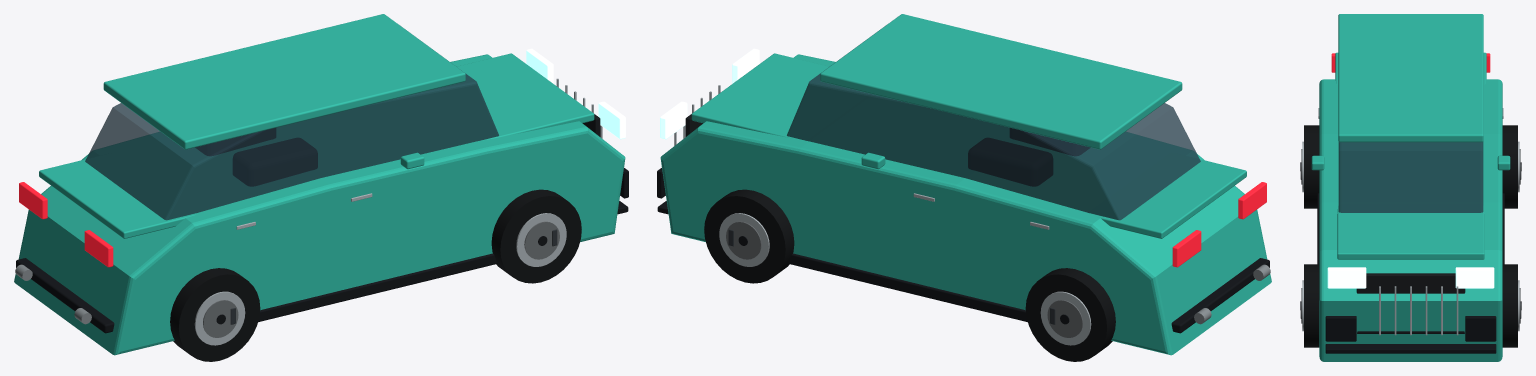
The model's file is ford_e_series_cutaway.glb.
3 views of the same model, side by side, from view 1: azimuth 30°, elevation 25°; view 2: azimuth 150°, elevation 25°; view 3: azimuth 270°, elevation 25° (orthographic). The views are drawn at different scales.
Visible parts, largest first — view 1: sculpted_body, glasshouse, roof, hood_center, rear_deck, rear_right_wheel_tire, front_right_wheel_tire, side_skirt_1, seat_1, rear_diffuser, rear_right_wheel_rim, front_right_wheel_rim (+7 smaller); view 2: sculpted_body, glasshouse, roof, hood_center, rear_deck, rear_left_wheel_tire, front_left_wheel_tire, side_skirt_-1, seat_-1, rear_diffuser, rear_left_wheel_rim, front_left_wheel_rim (+7 smaller); view 3: sculpted_body, roof, glasshouse, hood_center, front_grille, front_splitter, front_left_wheel_tire, front_right_wheel_tire, rear_left_wheel_tire, rear_right_wheel_tire, headlight_right, headlight_left (+7 smaller).
Part boxes in pixels (x1,y1,x2,y2): sculpted_body: (14, 54, 625, 355); glasshouse: (85, 25, 498, 220); roof: (103, 14, 465, 149); hood_center: (417, 53, 594, 140); rear_deck: (39, 153, 198, 238); rear_right_wheel_tire: (170, 268, 260, 361); front_right_wheel_tire: (491, 189, 581, 283); side_skirt_1: (258, 253, 497, 322); seat_1: (233, 138, 317, 185); rear_diffuser: (16, 258, 114, 333); rear_right_wheel_rim: (194, 291, 245, 345); front_right_wheel_rim: (516, 213, 566, 266); sculpted_body: (660, 54, 1271, 355); glasshouse: (787, 25, 1200, 220); roof: (820, 14, 1182, 149); hood_center: (691, 53, 868, 140); rear_deck: (1087, 153, 1246, 238); rear_left_wheel_tire: (1025, 268, 1115, 361); front_left_wheel_tire: (704, 189, 794, 283); side_skirt_-1: (788, 253, 1027, 322); seat_-1: (968, 138, 1052, 185); rear_diffuser: (1171, 258, 1269, 333); rear_left_wheel_rim: (1040, 291, 1091, 345); front_left_wheel_rim: (719, 213, 769, 266); sculpted_body: (1319, 79, 1502, 361); roof: (1338, 14, 1483, 142); glasshouse: (1338, 142, 1483, 212); hood_center: (1337, 205, 1484, 259); front_grille: (1356, 273, 1465, 333); front_splitter: (1325, 344, 1496, 353); front_left_wheel_tire: (1502, 264, 1517, 347); front_right_wheel_tire: (1304, 264, 1319, 347); rear_left_wheel_tire: (1502, 125, 1517, 208); rear_right_wheel_tire: (1304, 125, 1319, 208); headlight_right: (1327, 267, 1366, 288); headlight_left: (1455, 267, 1494, 288).
Bounding box in the file's own units: 5.66 × 2.1 × 2.28.
